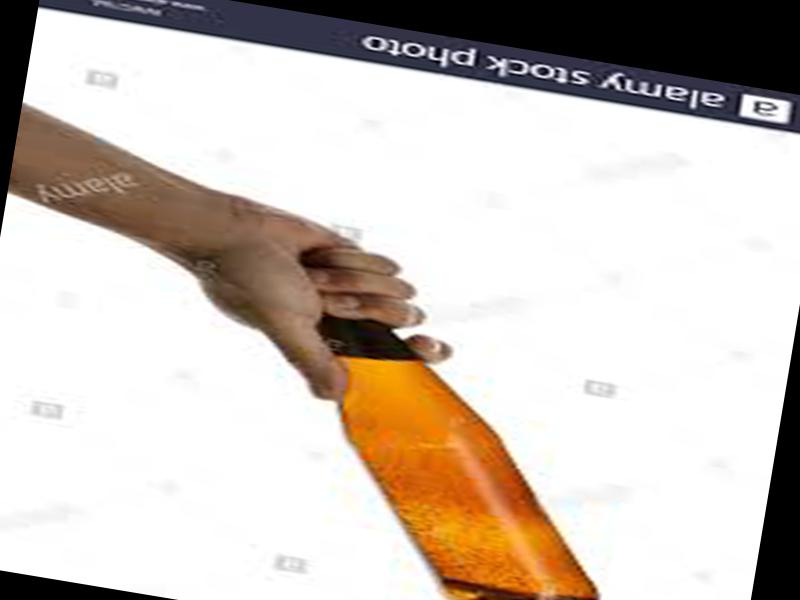Beer: (254, 251, 647, 600)
